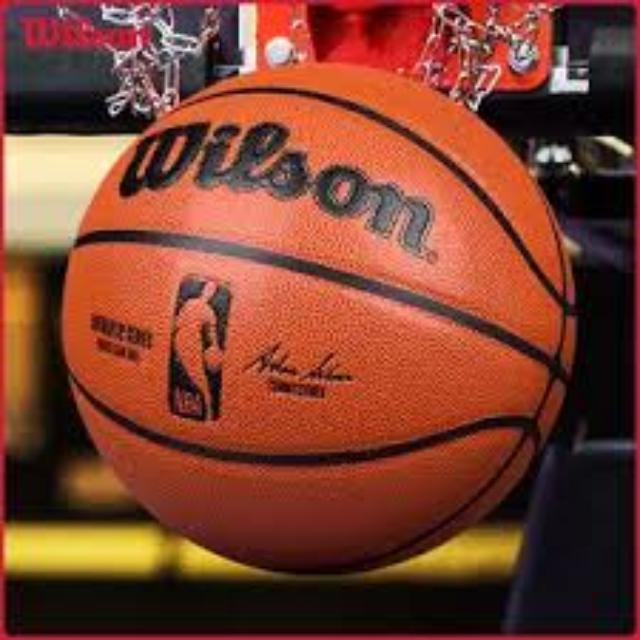basketball: (65, 68, 572, 570)
